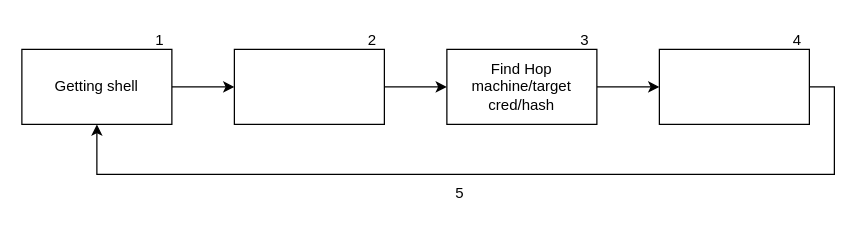
Image size: 866x233. Some labels were removed from this diagram. Each missing label, with the centre of its shape:
Enumerate (Mimi/ BloodHound): (308,86)
move laterally: (733,86)
